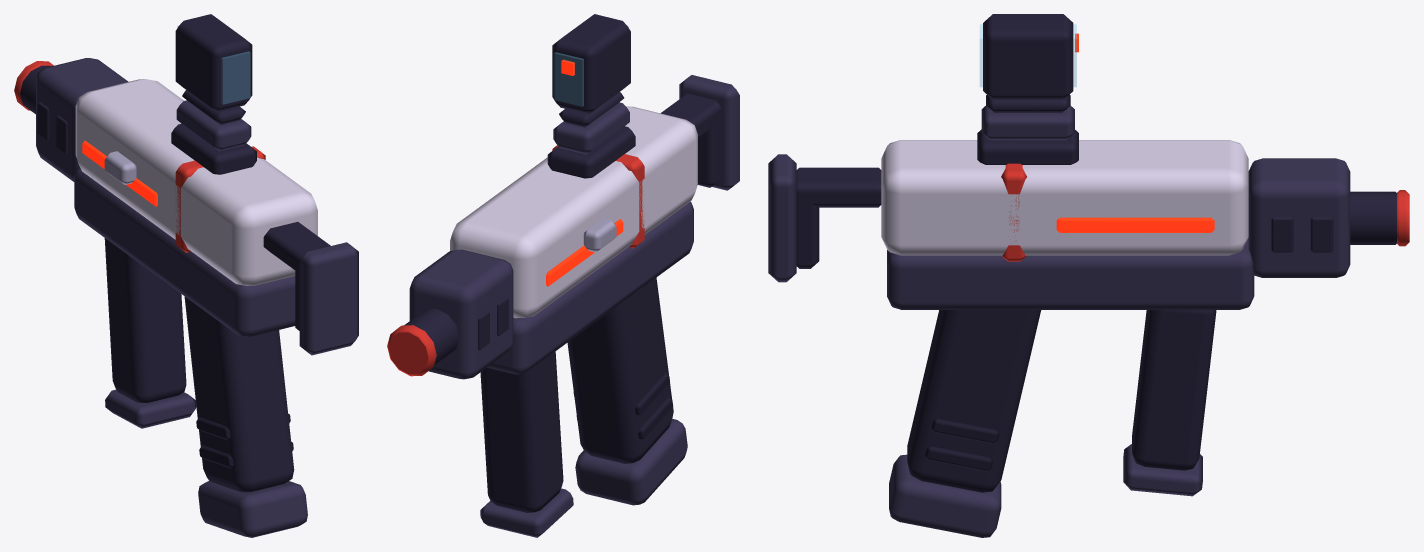
File: smg.glb
3 renders of one model, left to right at view 1: azimuth 30°, elevation 25°; view 2: azimuth 150°, elevation 25°; view 3: azimuth 270°, elevation 25°, orthographic. The views are drawn at different scales.
Parts seen in each view (by area): view 1: item.smg.body, part.mag, part.bolt; view 2: item.smg.body, part.mag, part.bolt; view 3: item.smg.body, part.mag.
Boxes of the visible parts, x1,y1,x2,y2 form: item.smg.body: (14, 14, 358, 492); part.mag: (198, 481, 307, 537); part.bolt: (104, 151, 136, 184); item.smg.body: (387, 14, 739, 537); part.mag: (575, 419, 687, 505); part.bolt: (583, 218, 616, 252); item.smg.body: (768, 14, 1409, 496); part.mag: (889, 454, 1001, 537).
Size of the model in its own units: 0.1437 by 0.6158 by 0.7094.
